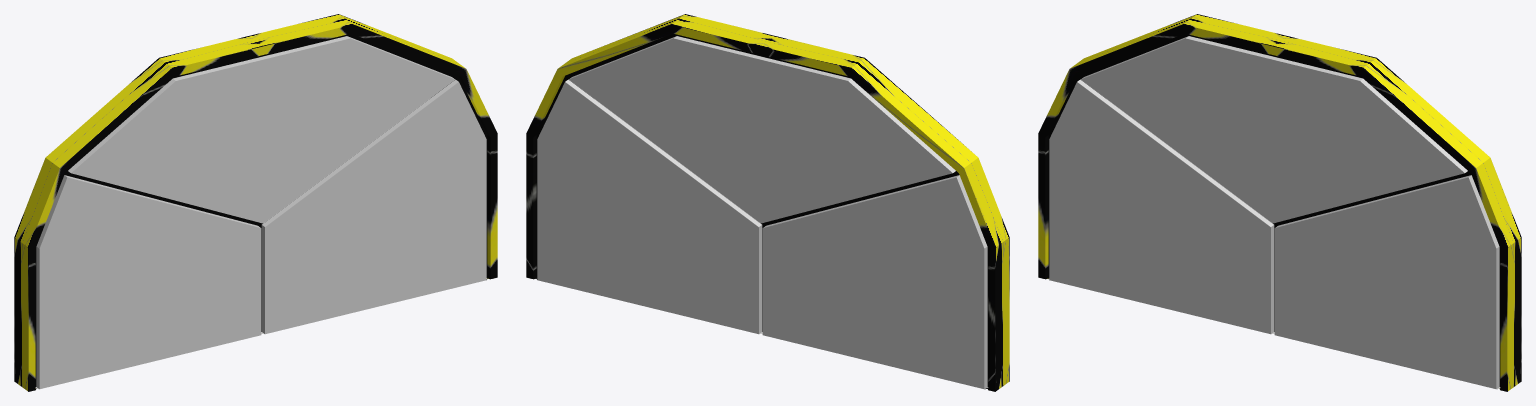
The model's file is Door.fbx.
The picture shows the model from 3 angles, left to right: view 1: azimuth 30°, elevation 25°; view 2: azimuth 150°, elevation 25°; view 3: azimuth 330°, elevation 25°; orthographic projection.
Visible parts, largest first — view 1: Cube; view 2: Cube; view 3: Cube.
Boxes of the visible parts, x1,y1,x2,y2 form: Cube: (14,14,497,391); Cube: (526,14,1009,391); Cube: (1038,14,1521,391).
Bounding box in the file's own units: 340 × 200 × 18.08.
Materials: 3 (1 with a texture image).
